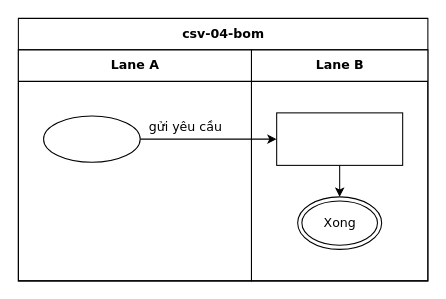
This 446x299 diagram has some shape labels left out. The shapes that lost their labels are listed below. From the top down, each one's centre as x and y in pixels, then its label:
point (91, 138): Bắt đầu
point (339, 138): Xử lý
